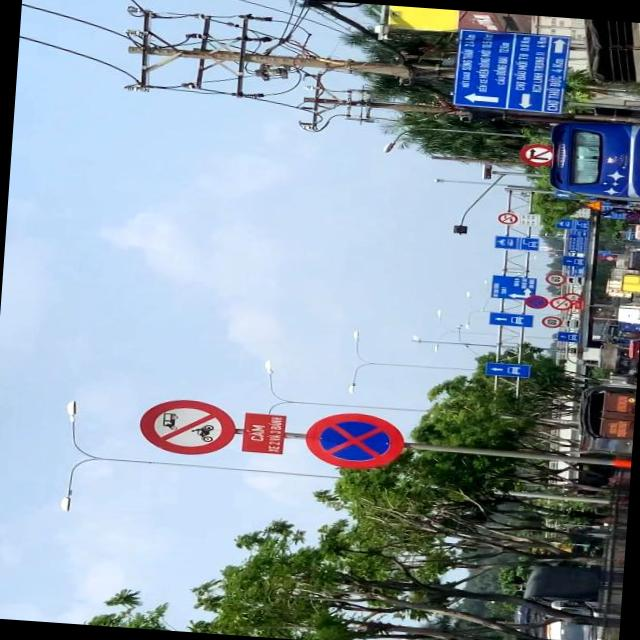P-104: (136, 396, 235, 454)
P-130: (302, 409, 404, 470)
